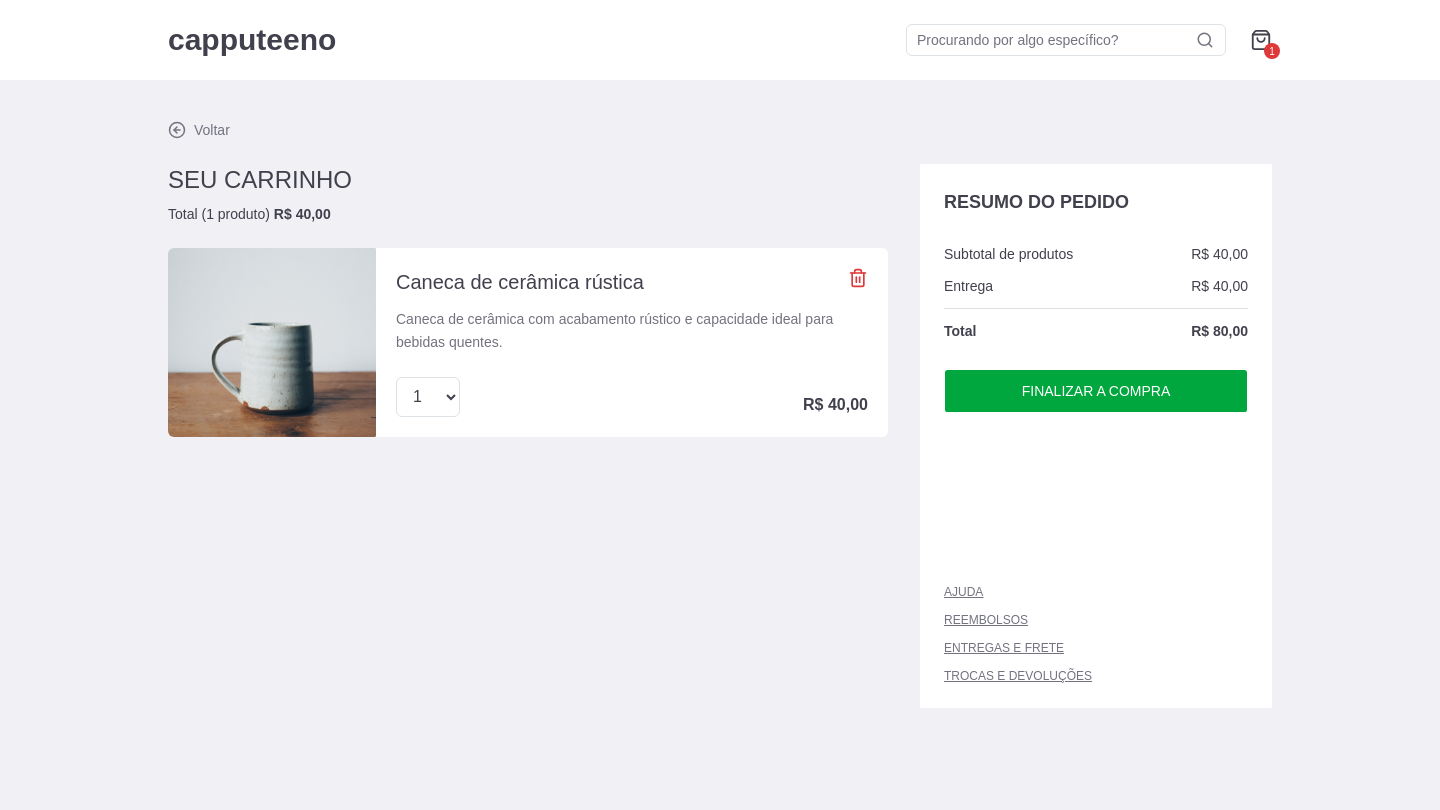
Cart › should update an item quantity
Select "2" in the dropdown named "Quantidade de Caneca de cerâmica rústica" at (428, 396), box [396, 376, 460, 416]
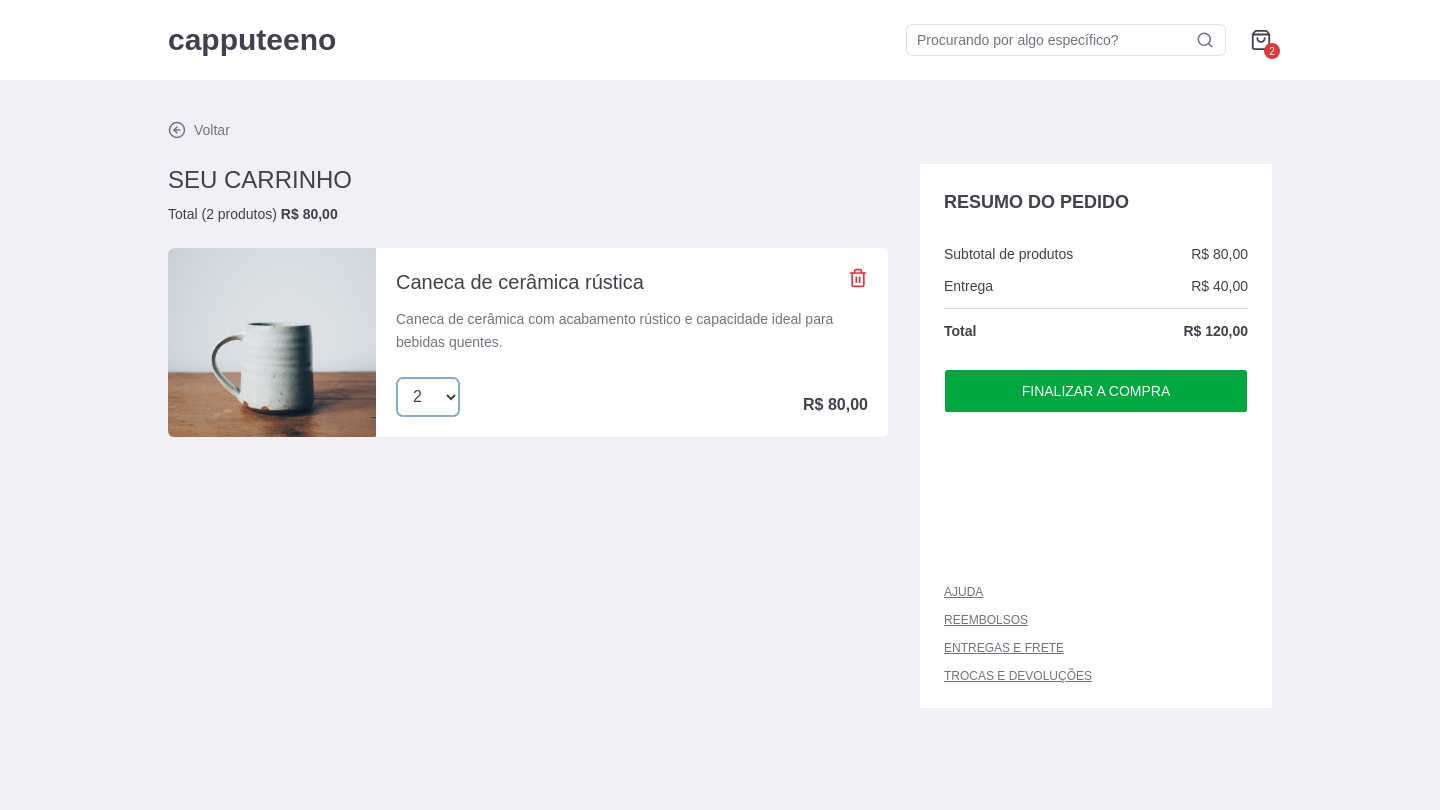
Check: the text "R$ 120,00" is shown, box [1183, 321, 1248, 341]
Check: the text "Total (2 produtos) R$ 80,00" is shown, box [168, 206, 338, 222]
